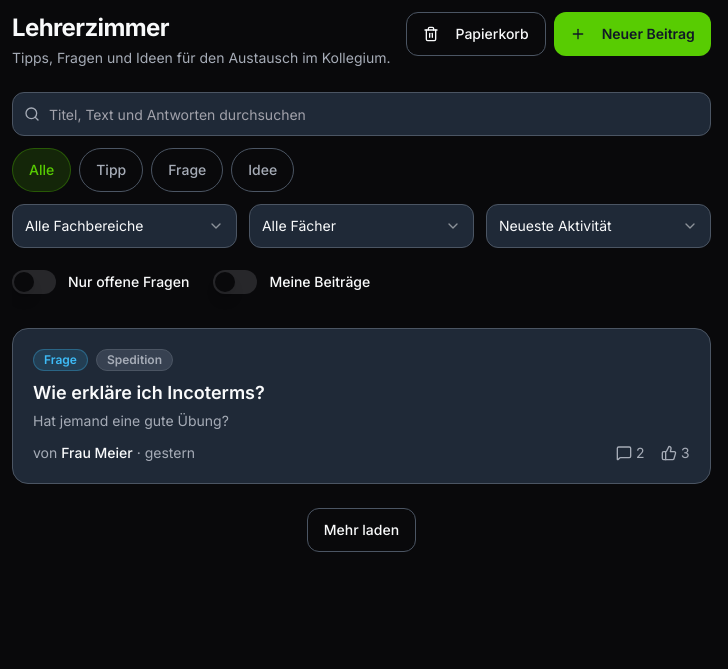
Test: Übersicht › lädt mit „Mehr laden“ die nächsten Beiträge nach
This screenshot has width=728, height=669.
Click the button "Mehr laden".
click(361, 530)  # box [307,508,416,552]
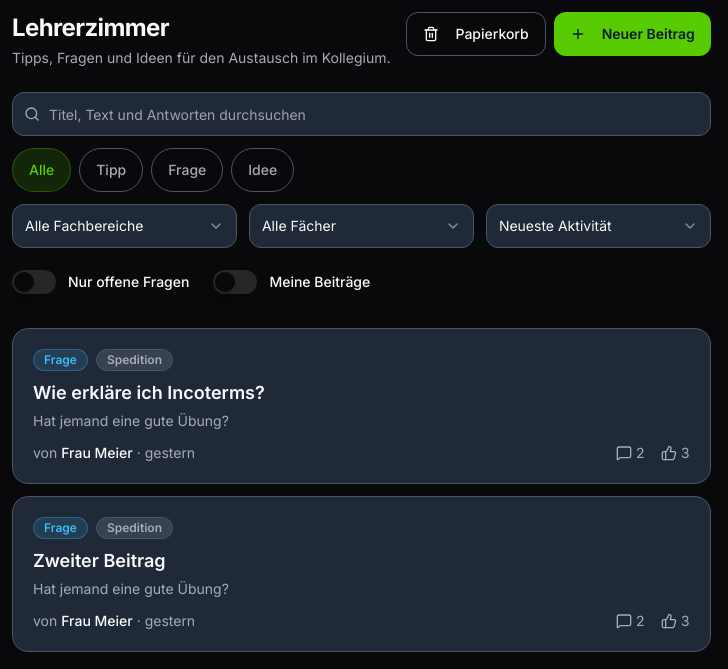
Check: the text "Zweiter Beitrag" is shown, box [33,547,166,575]
Check: the button "Mehr laden" is gone
